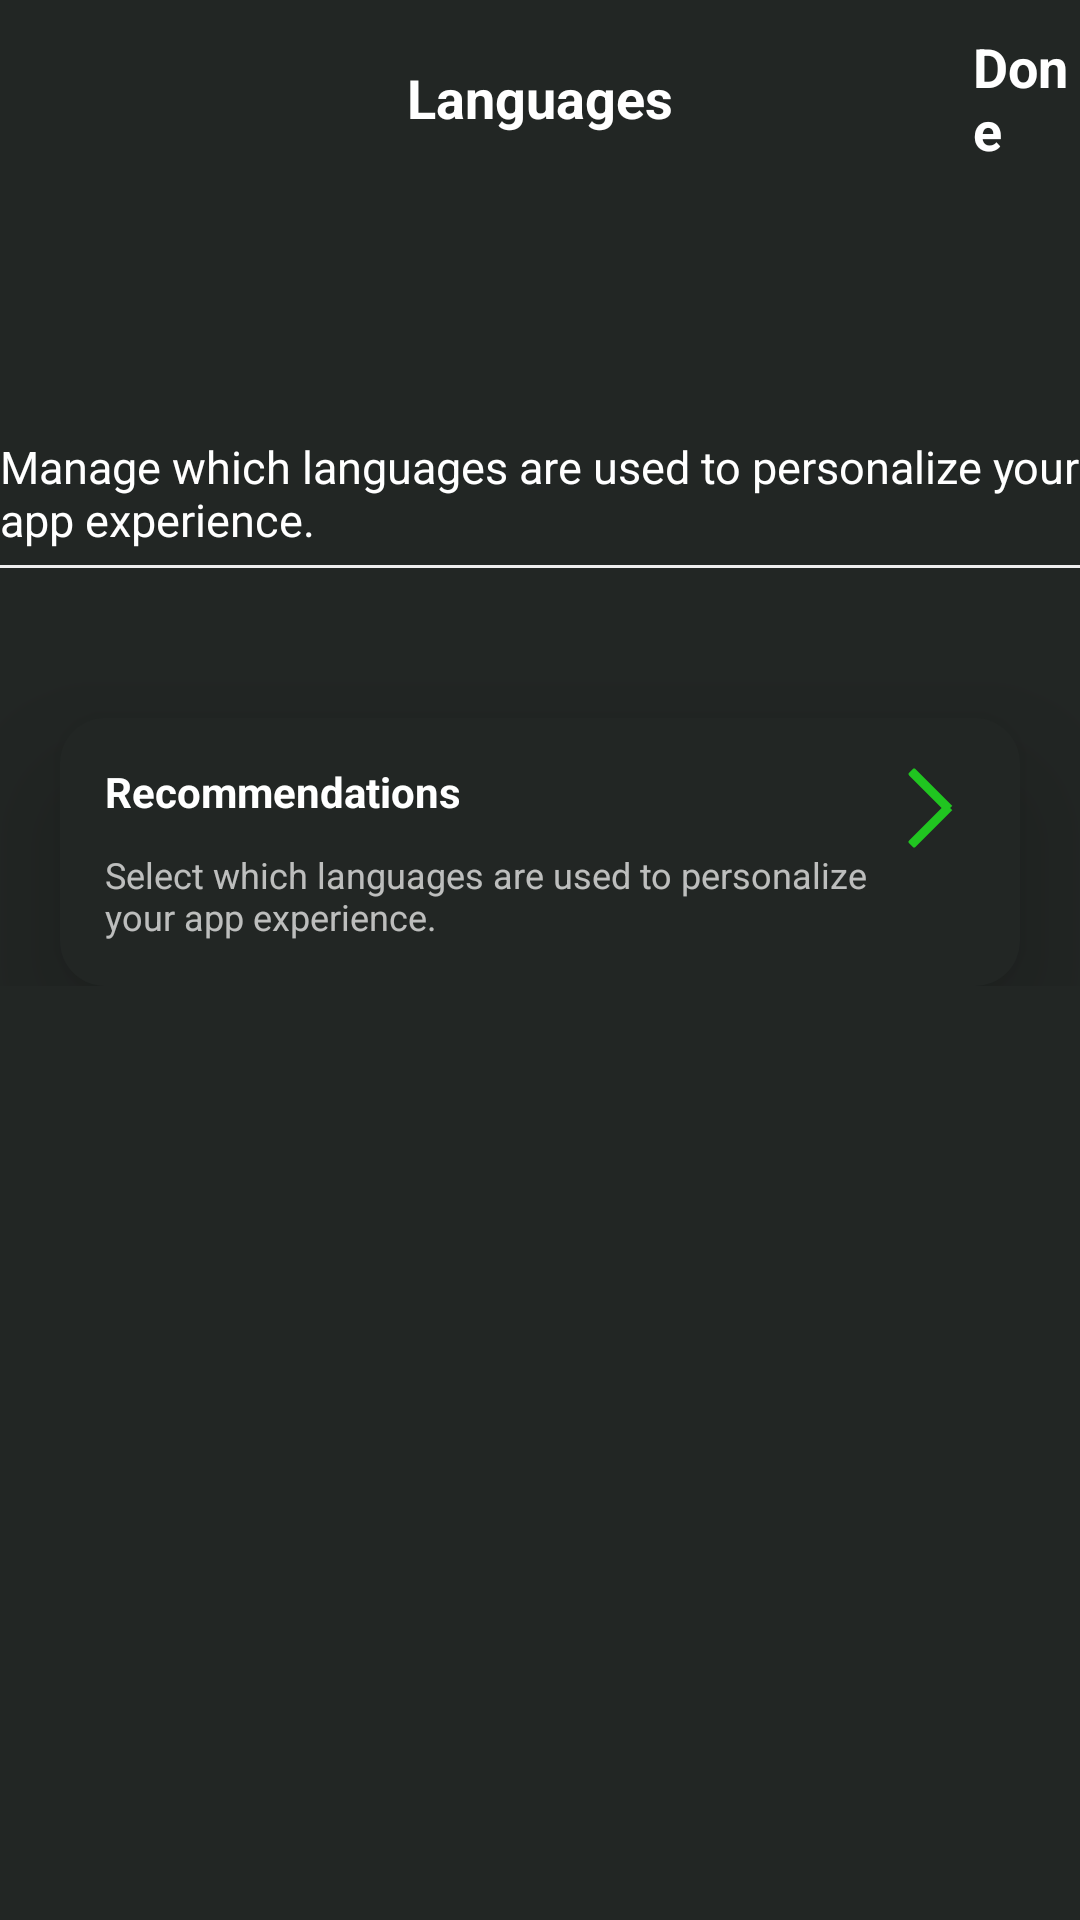

Point at icon controls on the screen. Image size 1080w x 1920h, points as (x=x, y=y).
forwardarrow: (x=930, y=808)
